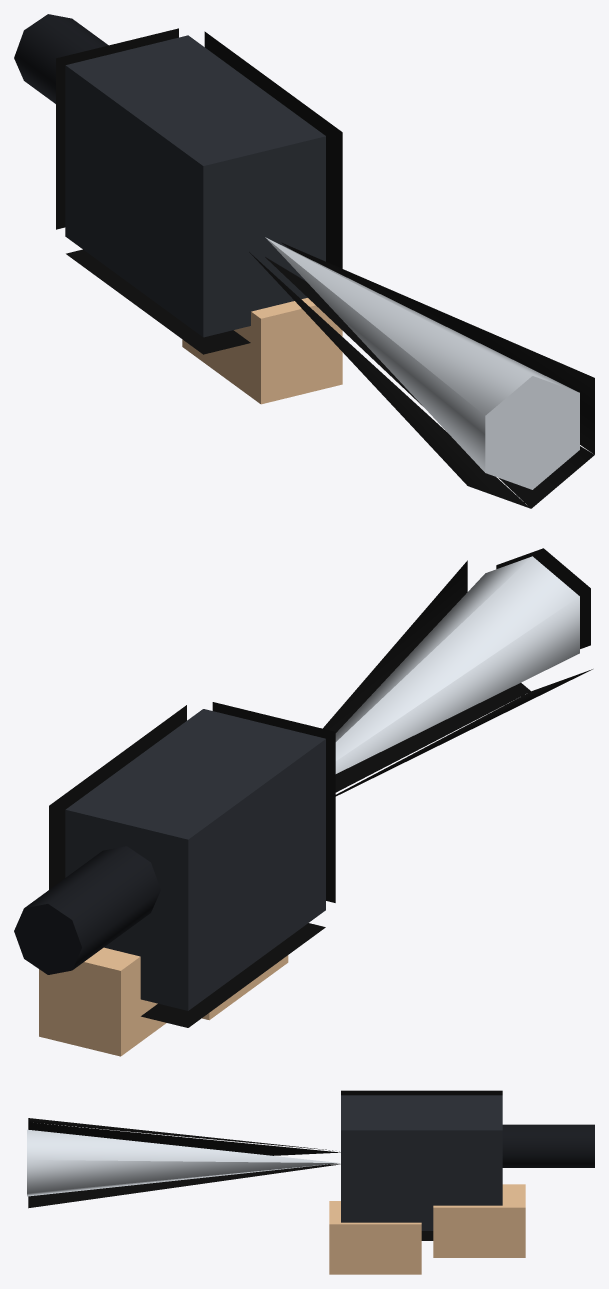
File: weapon_pistol.glb
3 renders of one model, top to bottom at view 1: azimuth 30°, elevation 25°; view 2: azimuth 150°, elevation 25°; view 3: azimuth 270°, elevation 25°, orthographic. The views are drawn at different scales.
Parts seen in each view (by area): view 1: weapon_pistol__part_2, weapon_pistol__part_10, weapon_pistol__outline_11, weapon_pistol__outline_3, weapon_pistol__part_6, weapon_pistol__part_4; view 2: weapon_pistol__part_2, weapon_pistol__part_10, weapon_pistol__part_4, weapon_pistol__outline_11, weapon_pistol__part_5, weapon_pistol__outline_3, weapon_pistol__part_6; view 3: weapon_pistol__part_2, weapon_pistol__part_10, weapon_pistol__outline_11, weapon_pistol__part_5, weapon_pistol__part_6, weapon_pistol__part_4, weapon_pistol__outline_3.
Part boxes in pixels (x1=…): weapon_pistol__part_2: x1=65, y1=35, x2=325, y2=337; weapon_pistol__part_10: x1=265, y1=237, x2=579, y2=489; weapon_pistol__outline_11: x1=249, y1=242, x2=594, y2=508; weapon_pistol__outline_3: x1=56, y1=28, x2=342, y2=354; weapon_pistol__part_6: x1=182, y1=298, x2=342, y2=404; weapon_pistol__part_4: x1=14, y1=14, x2=108, y2=103; weapon_pistol__part_2: x1=65, y1=709, x2=325, y2=1010; weapon_pistol__part_10: x1=335, y1=556, x2=579, y2=773; weapon_pistol__part_4: x1=14, y1=846, x2=160, y2=974; weapon_pistol__outline_11: x1=323, y1=548, x2=592, y2=796; weapon_pistol__part_5: x1=39, y1=947, x2=166, y2=1056; weapon_pistol__outline_3: x1=49, y1=702, x2=335, y2=1027; weapon_pistol__part_6: x1=202, y1=955, x2=288, y2=1020; weapon_pistol__part_2: x1=341, y1=1095, x2=502, y2=1230; weapon_pistol__part_10: x1=27, y1=1129, x2=340, y2=1196; weapon_pistol__outline_11: x1=28, y1=1118, x2=340, y2=1208; weapon_pistol__part_5: x1=433, y1=1184, x2=525, y2=1257; weapon_pistol__part_6: x1=329, y1=1201, x2=421, y2=1274; weapon_pistol__part_4: x1=502, y1=1124, x2=594, y2=1167; weapon_pistol__outline_3: x1=341, y1=1090, x2=502, y2=1240.
Size of the model in its own units: 0.114 by 0.182 by 0.629.
